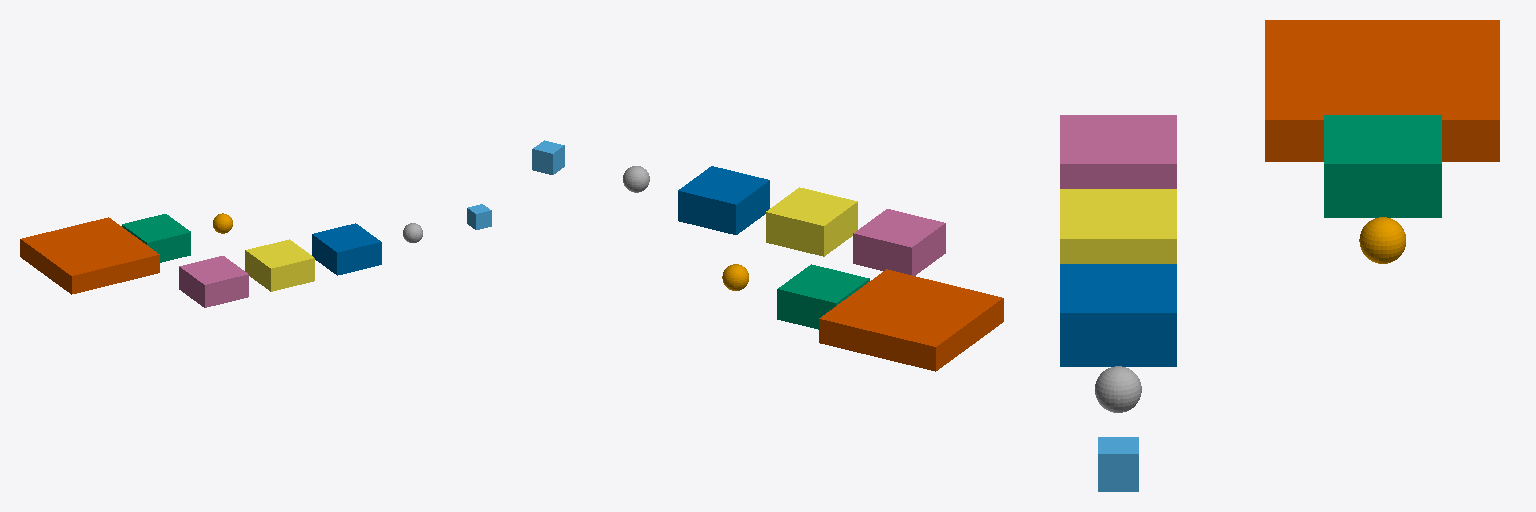
The robot description file, URDF, robot "robotic_manipulator_for_automatically_positioning_a_workhead":
<?xml version="1.0" ?>
<robot name="robotic_manipulator_for_automatically_positioning_a_workhead">
  <link name="driving_means">
    <visual>
      <geometry>
        <sphere radius="0.008"/>
      </geometry>
    </visual>
  </link>
  <link name="gimbaled_connections">
    <visual>
      <geometry>
        <box size="0.014 0.014 0.014"/>
      </geometry>
    </visual>
  </link>
  <link name="proximate_end_portions">
    <visual>
      <geometry>
        <box size="0.04 0.04 0.02"/>
      </geometry>
    </visual>
  </link>
  <link name="remote_end_portions">
    <visual>
      <geometry>
        <box size="0.04 0.04 0.02"/>
      </geometry>
    </visual>
  </link>
  <link name="single_location">
    <visual>
      <geometry>
        <box size="0.04 0.04 0.02"/>
      </geometry>
    </visual>
  </link>
  <link name="support_structure">
    <visual>
      <geometry>
        <box size="0.08 0.08 0.016"/>
      </geometry>
    </visual>
  </link>
  <link name="three_arms">
    <visual>
      <geometry>
        <box size="0.04 0.04 0.02"/>
      </geometry>
    </visual>
  </link>
  <link name="workhead">
    <visual>
      <geometry>
        <sphere radius="0.008"/>
      </geometry>
    </visual>
  </link>
  <joint name="_attach_support_structure_to_driving_means" type="fixed">
    <parent link="support_structure"/>
    <child link="driving_means"/>
    <origin xyz="0.1200 0.0000 0.0000" rpy="0 0 0"/>
  </joint>
  <joint name="_attach_support_structure_to_gimbaled_connections" type="fixed">
    <parent link="support_structure"/>
    <child link="gimbaled_connections"/>
    <origin xyz="0.3000 -0.0900 0.0000" rpy="0 0 0"/>
  </joint>
  <joint name="_attach_support_structure_to_proximate_end_portions" type="fixed">
    <parent link="support_structure"/>
    <child link="proximate_end_portions"/>
    <origin xyz="0.0600 0.0000 0.0000" rpy="0 0 0"/>
  </joint>
  <joint name="_attach_support_structure_to_remote_end_portions" type="fixed">
    <parent link="support_structure"/>
    <child link="remote_end_portions"/>
    <origin xyz="0.1200 -0.0900 0.0000" rpy="0 0 0"/>
  </joint>
  <joint name="_attach_support_structure_to_single_location" type="fixed">
    <parent link="support_structure"/>
    <child link="single_location"/>
    <origin xyz="0.1800 -0.0900 0.0000" rpy="0 0 0"/>
  </joint>
  <joint name="_attach_support_structure_to_three_arms" type="fixed">
    <parent link="support_structure"/>
    <child link="three_arms"/>
    <origin xyz="0.0600 -0.0900 0.0000" rpy="0 0 0"/>
  </joint>
  <joint name="_attach_support_structure_to_workhead" type="fixed">
    <parent link="support_structure"/>
    <child link="workhead"/>
    <origin xyz="0.2400 -0.0900 0.0000" rpy="0 0 0"/>
  </joint>
</robot>

--- Facts derived from the render (not from the file) ---
The picture shows the robot from 3 angles, left to right: view 1: azimuth 30°, elevation 25°; view 2: azimuth 150°, elevation 25°; view 3: azimuth 270°, elevation 25°; orthographic projection.
Model robotic_manipulator_for_automatically_positioning_a_workhead with 8 links and 7 joints (7 fixed), rooted at support_structure, posed every joint at zero.
Links seen in each view (by area): view 1: support_structure, three_arms, single_location, remote_end_portions, proximate_end_portions, gimbaled_connections; view 2: support_structure, single_location, remote_end_portions, three_arms, proximate_end_portions, gimbaled_connections, workhead, driving_means; view 3: support_structure, proximate_end_portions, single_location, remote_end_portions, three_arms, gimbaled_connections, workhead, driving_means.
Link boxes in pixels (x1,y1,x2,y2): support_structure: (20, 217, 159, 294); three_arms: (179, 256, 248, 307); single_location: (312, 223, 381, 275); remote_end_portions: (245, 239, 314, 291); proximate_end_portions: (122, 214, 190, 262); gimbaled_connections: (467, 204, 491, 229); support_structure: (819, 269, 1003, 371); single_location: (678, 166, 769, 234); remote_end_portions: (766, 187, 857, 256); three_arms: (853, 209, 945, 275); proximate_end_portions: (777, 264, 869, 329); gimbaled_connections: (532, 140, 564, 174); workhead: (623, 166, 649, 192); driving_means: (722, 264, 748, 290); support_structure: (1265, 20, 1499, 161); proximate_end_portions: (1324, 115, 1441, 217); single_location: (1060, 264, 1176, 366); remote_end_portions: (1060, 189, 1176, 263); three_arms: (1060, 115, 1176, 188); gimbaled_connections: (1098, 437, 1138, 491); workhead: (1095, 366, 1141, 412); driving_means: (1359, 217, 1405, 263).
Bounding box of the posed robot: 0.347 × 0.15 × 0.02 m (x, y, z).
Geometry: primitives only (box / cylinder / sphere), no mesh files.
